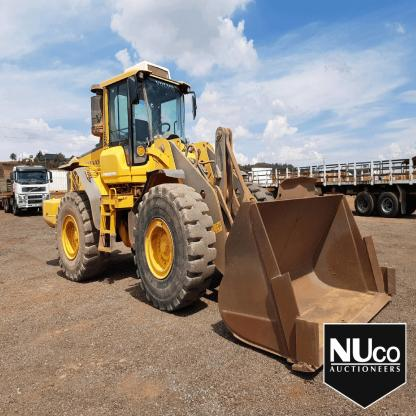bull_dozer/loader/grader: (41, 60, 405, 378)
